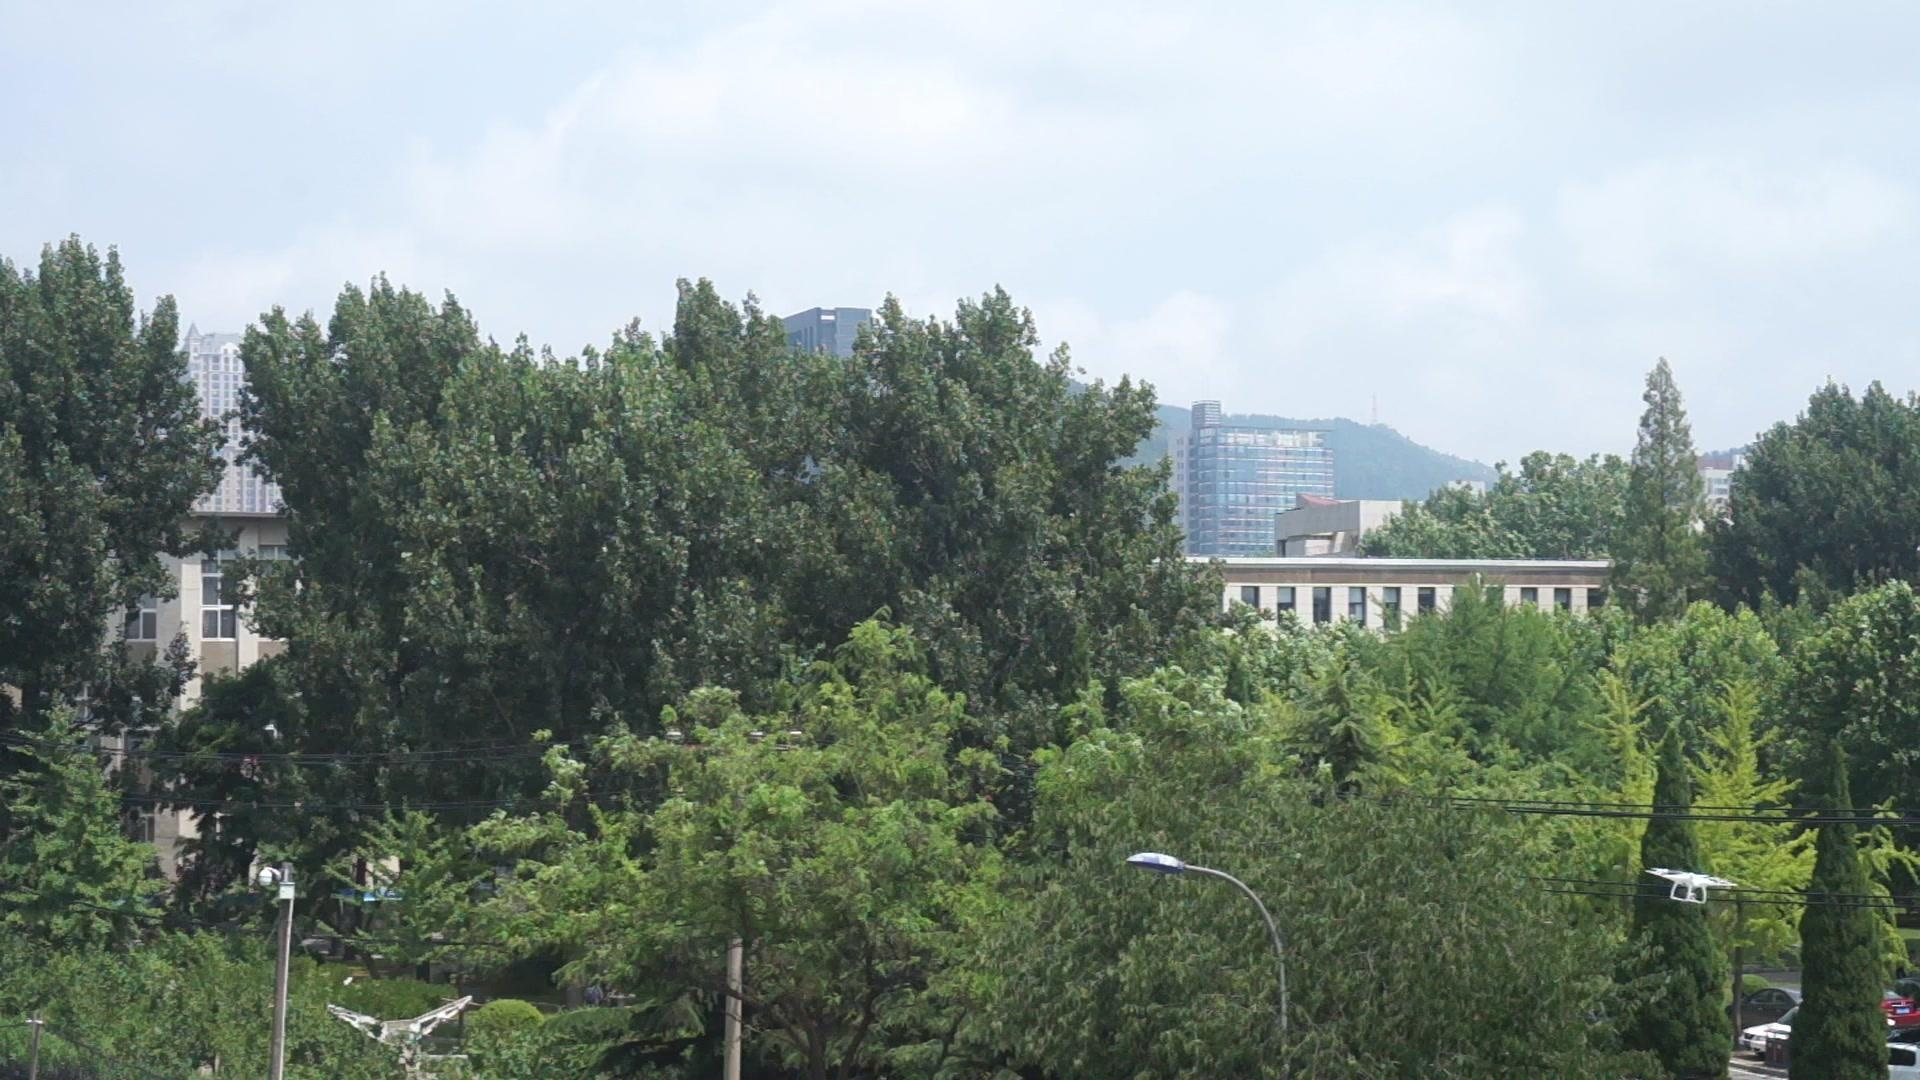UAV: (1646, 868, 1739, 905)
